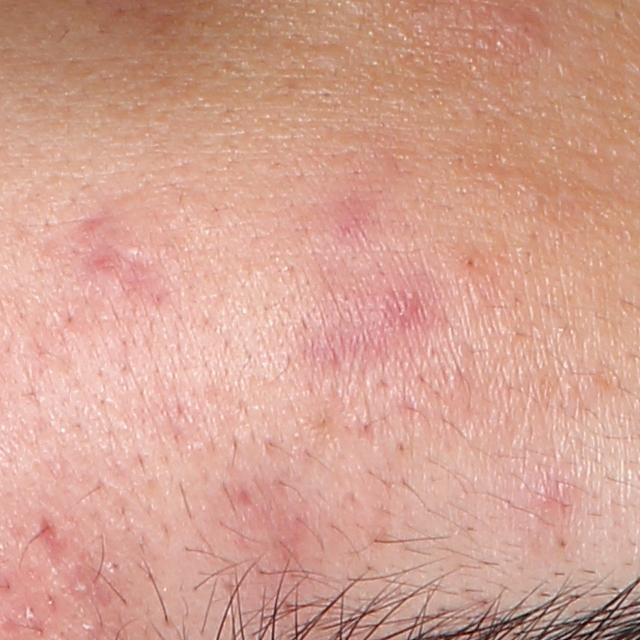comedo: (463, 255, 478, 270)
papule: (490, 10, 541, 55)
